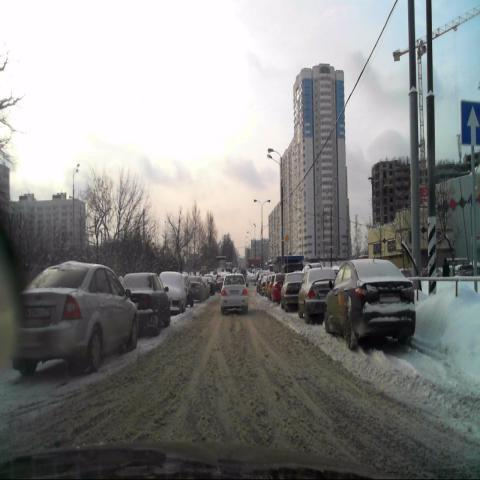5_5: (460, 100, 480, 144)
